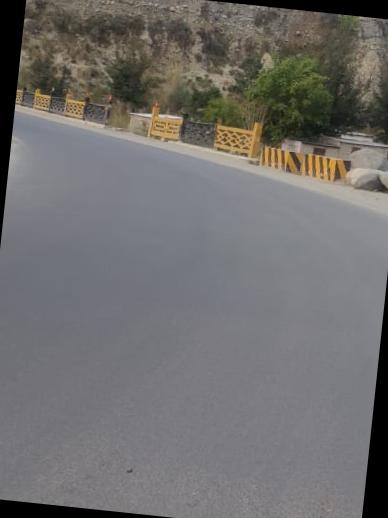right_turn: (3, 40, 388, 257)
